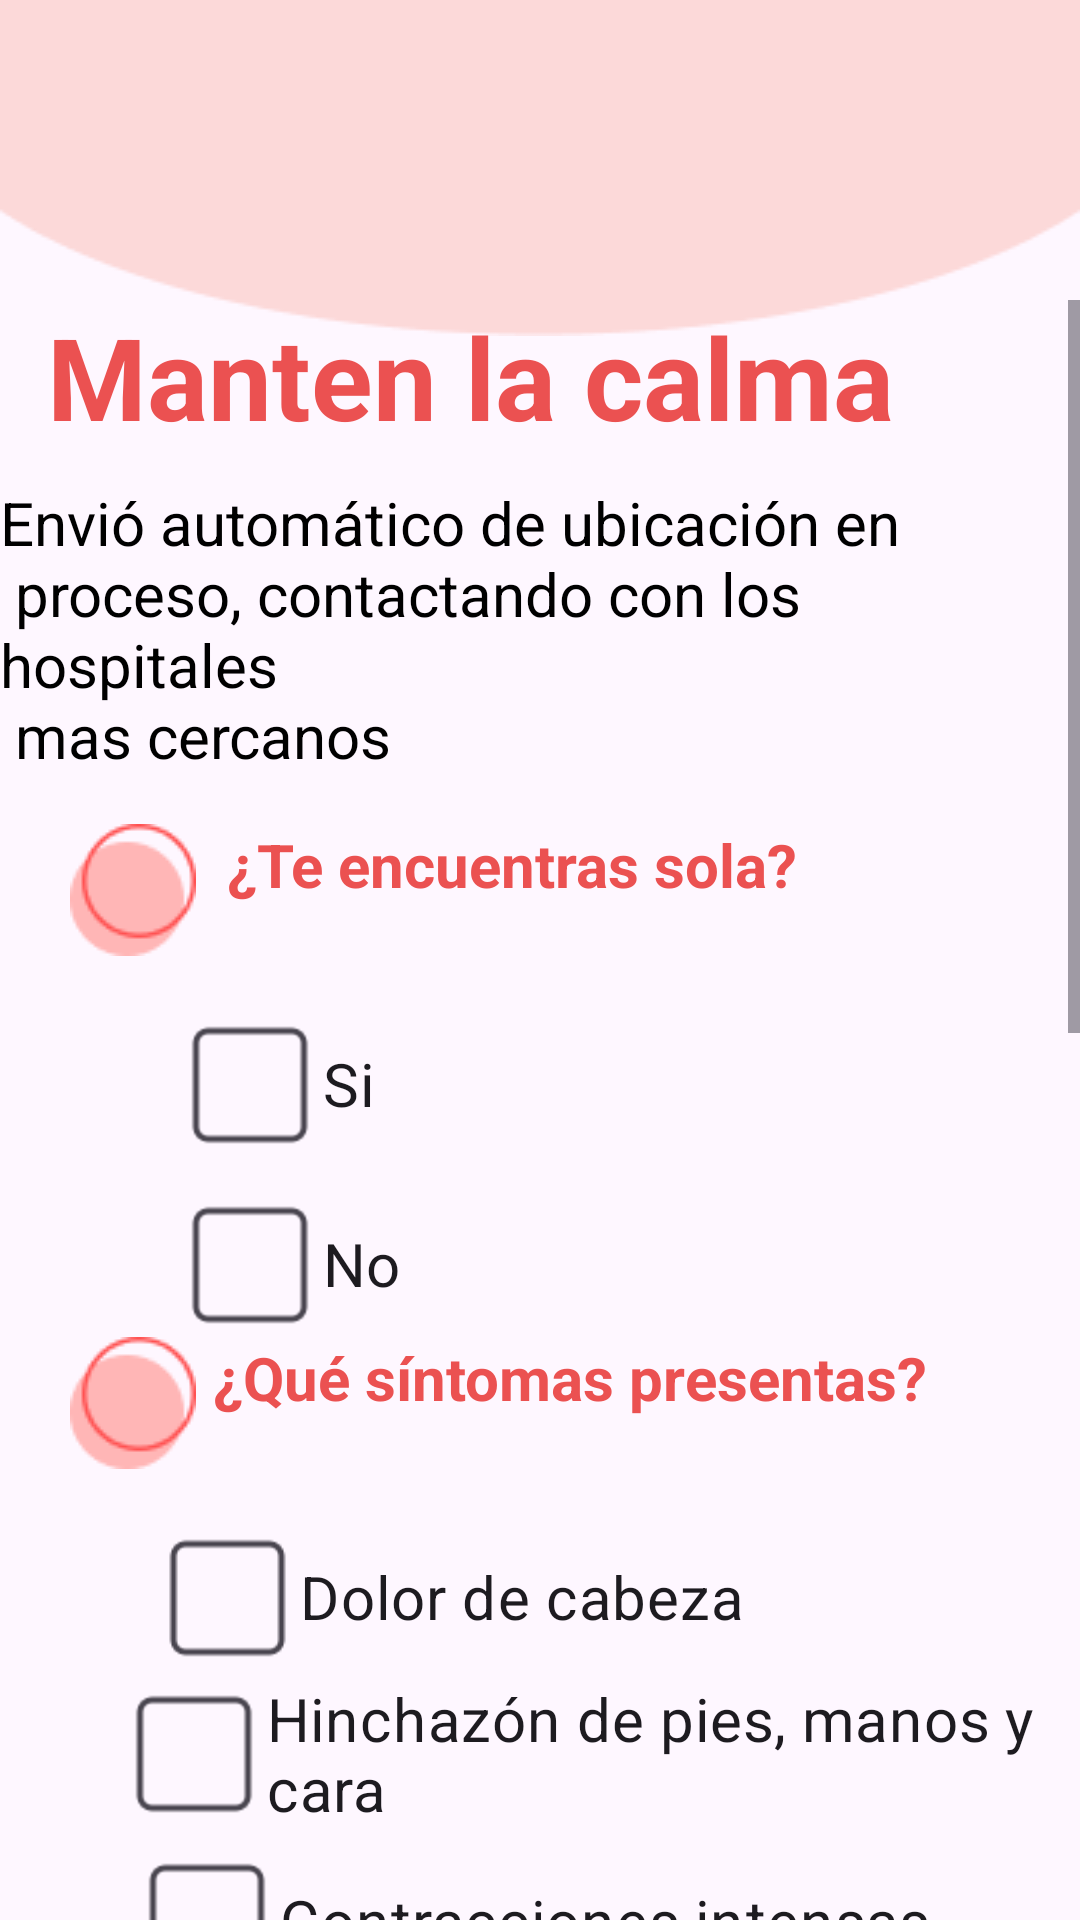

Point at icon controls on the screen. Image size 1080×1920, points as (x,y).
circleprev: (133,890), (133,1403)
